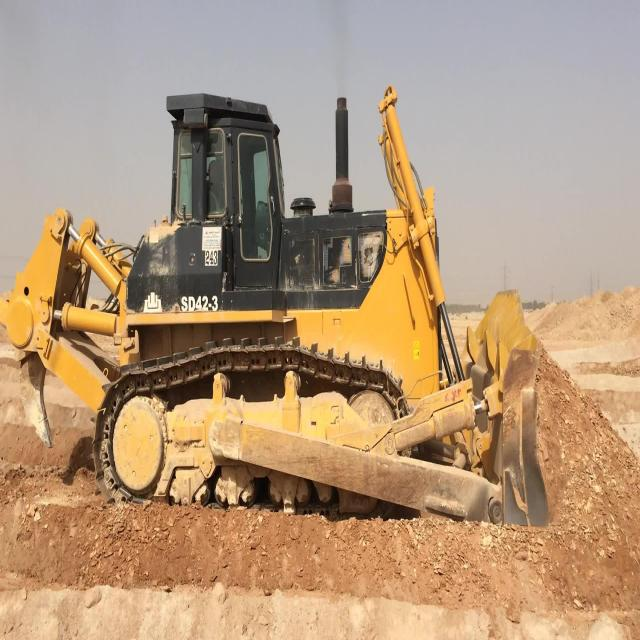buldozerpayloadergrader: (21, 76, 572, 549)
